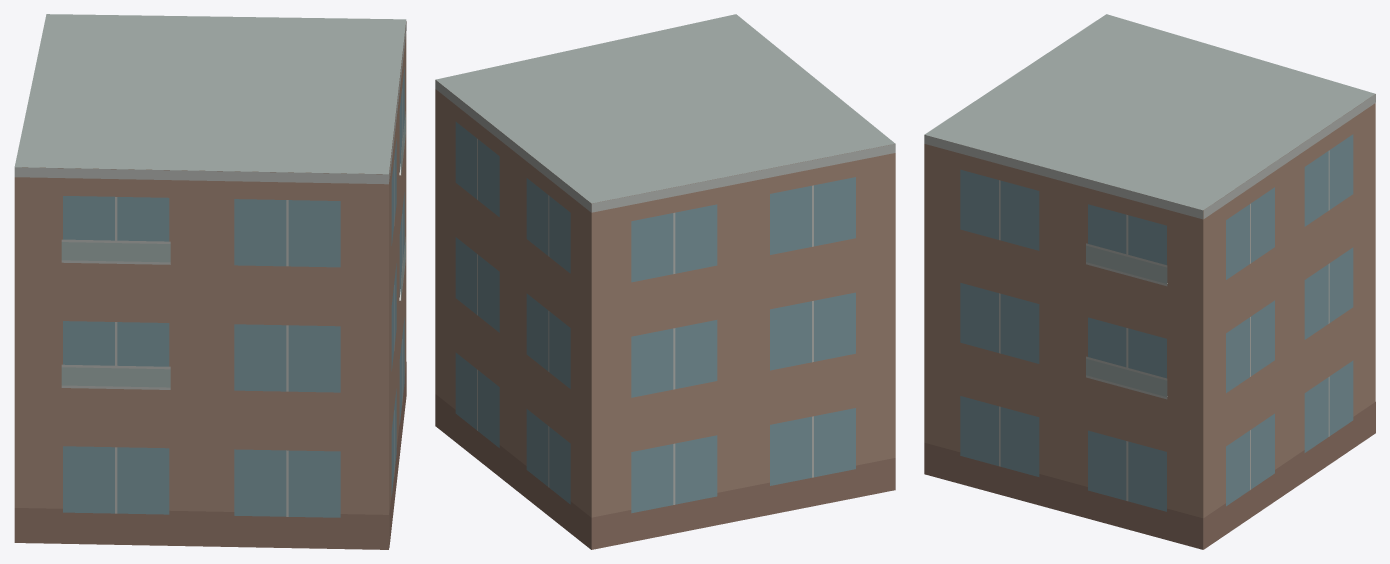
File: survey-upis-32958166.glb
3 renders of one model, left to right at view 1: azimuth 30°, elevation 25°; view 2: azimuth 150°, elevation 25°; view 3: azimuth 270°, elevation 25°, orthographic. The views are drawn at different scales.
Visible parts, largest first — view 1: survey-upis-32958166.tmp; view 2: survey-upis-32958166.tmp; view 3: survey-upis-32958166.tmp.
Part boxes in pixels (x1=…): survey-upis-32958166.tmp: x1=14, y1=14, x2=406, y2=549; survey-upis-32958166.tmp: x1=435, y1=14, x2=895, y2=549; survey-upis-32958166.tmp: x1=924, y1=14, x2=1375, y2=549.
Size of the model in its own units: 11.37 by 9.15 by 11.04.
